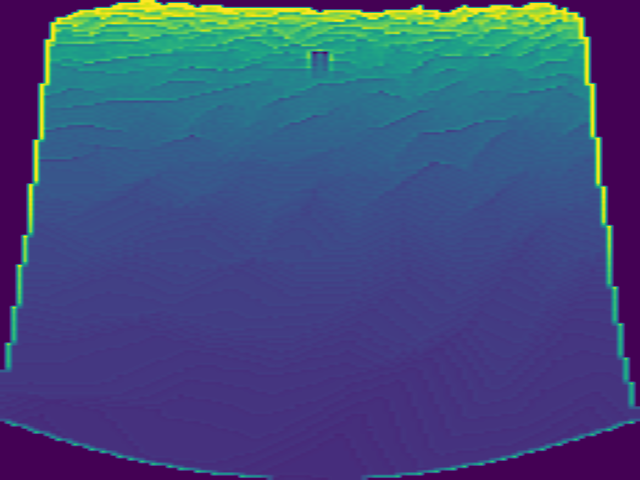car_0198: (308, 48, 332, 75)
